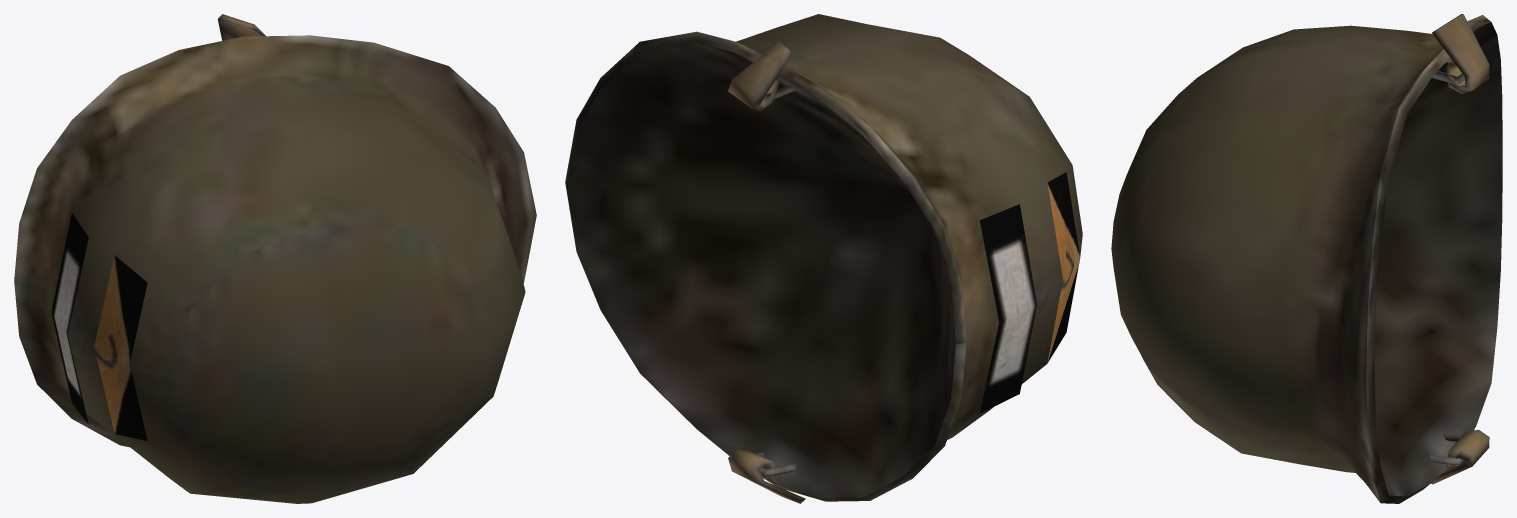
File: helmet_us_wet_ranger_randall.glb
The picture shows the model from 3 angles, left to right: view 1: azimuth 30°, elevation 25°; view 2: azimuth 150°, elevation 25°; view 3: azimuth 270°, elevation 25°; orthographic projection.
Bounding box in the file's own units: 11.84 × 11.05 × 8.5.
Materials: 2 (2 with a texture image).
